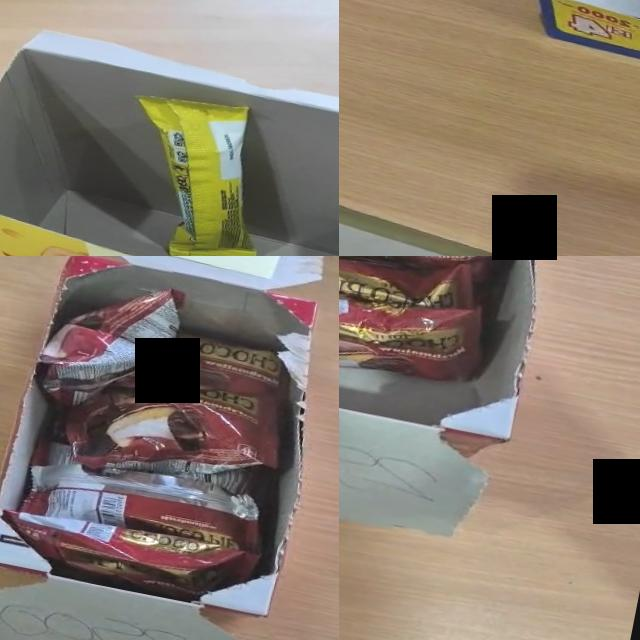Ahh: (105, 85, 285, 256)
Chocopie: (59, 360, 288, 502), (21, 448, 272, 559), (0, 503, 260, 610), (30, 266, 188, 422), (339, 260, 494, 402), (30, 426, 252, 507), (123, 324, 288, 414), (339, 256, 488, 333)
